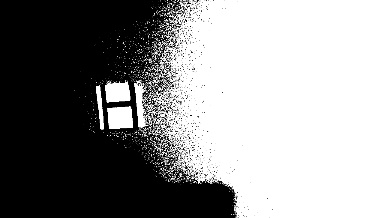H: (95, 81, 144, 128)
